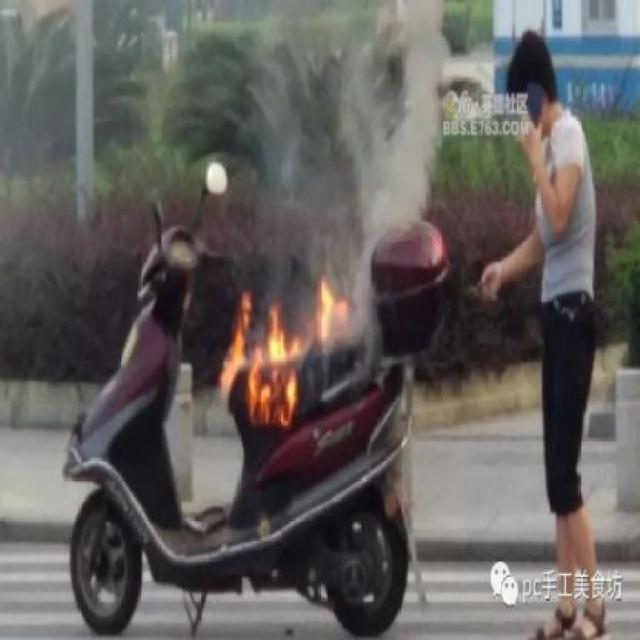Fire: (232, 295, 298, 423), (316, 278, 349, 344)
Smoke: (354, 17, 440, 248)
